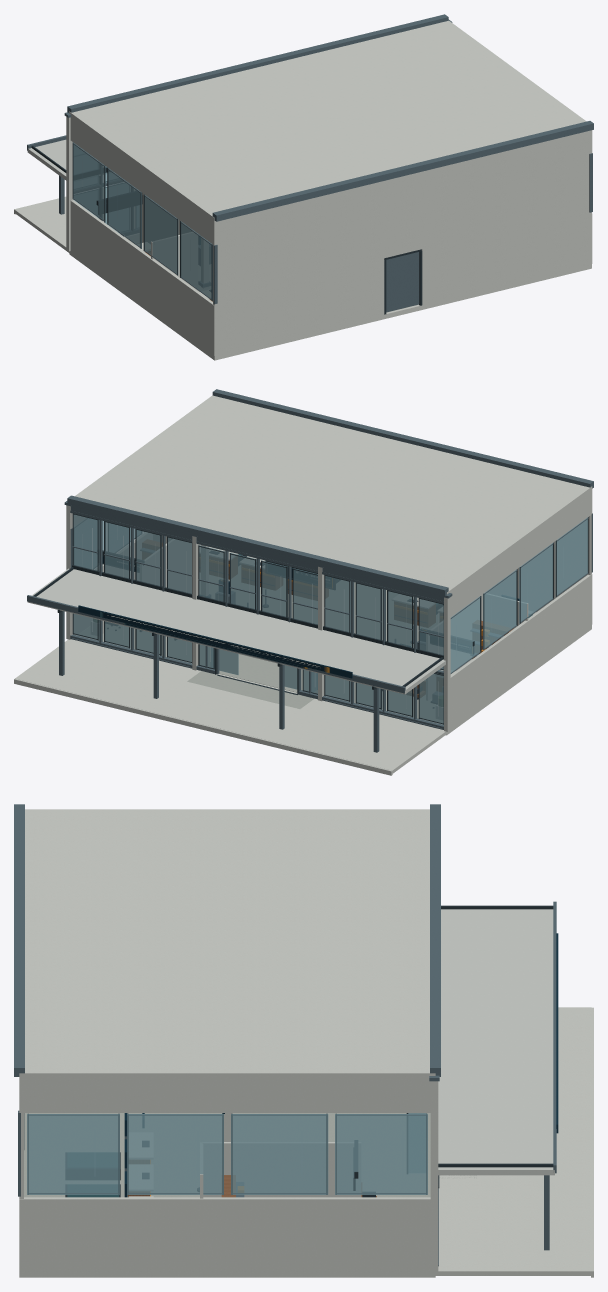
The picture shows the model from 3 angles, top to bottom: view 1: azimuth 30°, elevation 25°; view 2: azimuth 150°, elevation 25°; view 3: azimuth 270°, elevation 25°; orthographic projection. The views are drawn at different scales.
Parts seen in each view (by area): view 1: VIS_Roof_Structure, VIS_RearWest, VIS_RearEast, VIS_West_Spandrel, VIS_West_HeadBand, VIS_RoofEdgeRear, VIS_RearDoor_Above, VIS_RoofEdgeFront, VIS_Floor_Slab, VIS_West_Glass_2, VIS_West_Glass_1, VIS_West_Glass_0 (+10 smaller); view 2: VIS_Roof_Structure, VIS_Sidewalk_Apron, VIS_Canopy_Slab, VIS_Finished_Terrazzo, VIS_West_Spandrel, VIS_West_HeadBand, VIS_RoofEdgeFront, VIS_RearWest, VIS_RoofEdgeRear, VIS_Curb_Edge, VIS_Facade_RoofSpandrel, VIS_West_Glass_1 (+38 smaller); view 3: VIS_Roof_Structure, VIS_East_Spandrel, VIS_Canopy_Slab, VIS_Sidewalk_Apron, VIS_Finished_Terrazzo, VIS_East_HeadBand, VIS_East_Glass_1, VIS_East_Glass_2, VIS_East_Glass_3, VIS_East_Glass_0, VIS_East_ShopSidePartition, VIS_RoofEdgeRear (+9 smaller).
Part boxes in pixels (bbox=[...]): VIS_Roof_Structure: bbox=[72, 21, 583, 215]; VIS_RearWest: bbox=[213, 181, 384, 355]; VIS_RearEast: bbox=[421, 131, 591, 305]; VIS_West_Spandrel: bbox=[70, 200, 216, 355]; VIS_West_HeadBand: bbox=[69, 111, 216, 245]; VIS_RoofEdgeRear: bbox=[212, 121, 593, 221]; VIS_RearDoor_Above: bbox=[384, 171, 422, 258]; VIS_RoofEdgeFront: bbox=[67, 14, 448, 112]; VIS_Floor_Slab: bbox=[69, 233, 591, 360]; VIS_West_Glass_2: bbox=[144, 195, 178, 275]; VIS_West_Glass_1: bbox=[108, 168, 141, 248]; VIS_West_Glass_0: bbox=[73, 142, 105, 221]; VIS_Roof_Structure: bbox=[76, 396, 586, 589]; VIS_Sidewalk_Apron: bbox=[15, 639, 446, 773]; VIS_Canopy_Slab: bbox=[27, 568, 445, 694]; VIS_Finished_Terrazzo: bbox=[78, 545, 535, 724]; VIS_West_Spandrel: bbox=[450, 574, 592, 727]; VIS_West_HeadBand: bbox=[446, 486, 592, 617]; VIS_RoofEdgeFront: bbox=[67, 495, 448, 596]; VIS_RearWest: bbox=[488, 515, 591, 612]; VIS_RoofEdgeRear: bbox=[212, 389, 593, 488]; VIS_Curb_Edge: bbox=[14, 679, 392, 775]; VIS_Facade_RoofSpandrel: bbox=[70, 505, 443, 601]; VIS_West_Glass_1: bbox=[483, 569, 516, 650]; VIS_Roof_Structure: bbox=[25, 809, 429, 1072]; VIS_East_Spandrel: bbox=[19, 1197, 430, 1271]; VIS_Canopy_Slab: bbox=[438, 909, 554, 1175]; VIS_Sidewalk_Apron: bbox=[435, 1007, 591, 1275]; VIS_Finished_Terrazzo: bbox=[24, 1113, 430, 1197]; VIS_East_HeadBand: bbox=[19, 1071, 435, 1112]; VIS_East_Glass_1: bbox=[231, 1114, 328, 1194]; VIS_East_Glass_2: bbox=[127, 1114, 223, 1194]; VIS_East_Glass_3: bbox=[27, 1114, 119, 1194]; VIS_East_Glass_0: bbox=[335, 1114, 427, 1194]; VIS_East_ShopSidePartition: bbox=[203, 1142, 361, 1197]; VIS_RoofEdgeRear: bbox=[14, 804, 24, 1076].
Size of the model in its own units: 24.42 by 8.9 by 22.3.
Materials: 17 (17 with a texture image).
